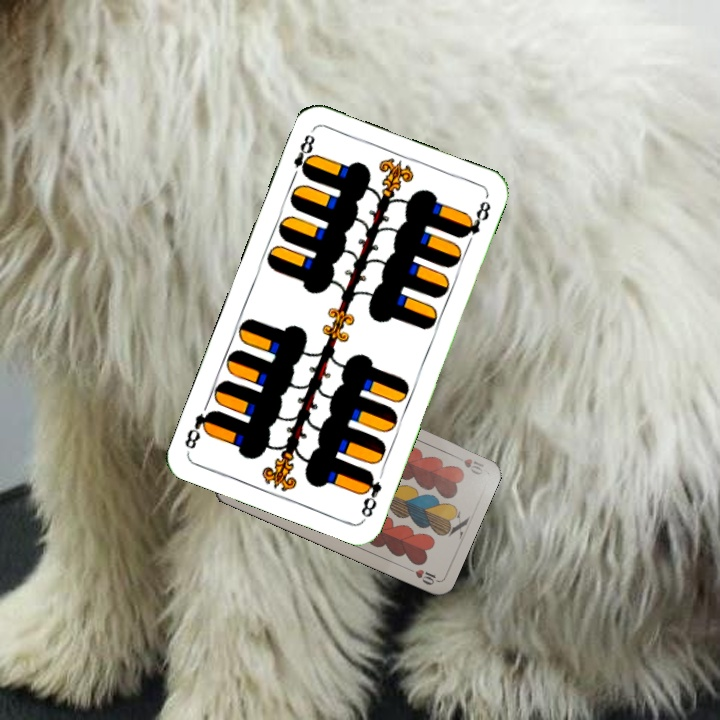E8: (287, 130, 318, 184), (357, 467, 385, 522)
H10: (449, 451, 486, 478)
